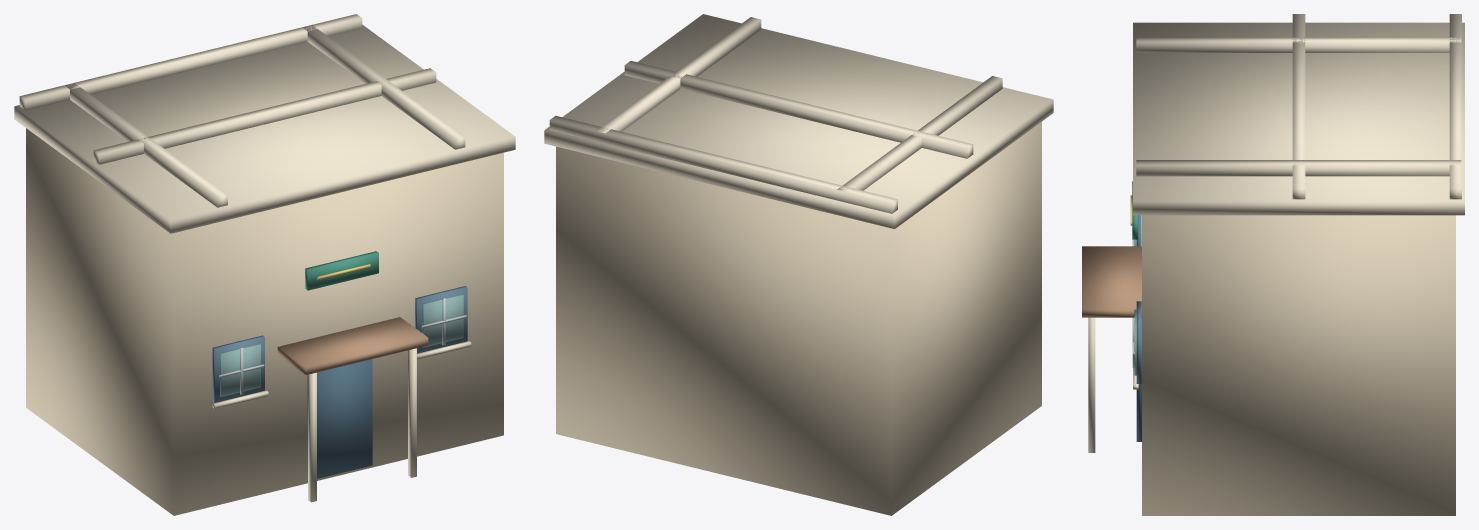
Rendered from building-type-d.glb.
3 views of the same model, side by side, from view 1: azimuth 30°, elevation 25°; view 2: azimuth 150°, elevation 25°; view 3: azimuth 270°, elevation 25° (orthographic). The views are drawn at different scales.
Parts seen in each view (by area): view 1: kano_house_mat_00_plastered_house, kano_house_mat_01_roof_slab, kano_house_mat_02_front_parapet, kano_house_mat_03_front_door, kano_house_mat_05_window_frame_-1.78, kano_house_mat_08_porch_canopy, kano_house_mat_06_window_glass_-1.78, kano_house_mat_09_compound_name_panel, kano_house_mat_07_window_mullion_-1.78; view 2: kano_house_mat_00_plastered_house, kano_house_mat_01_roof_slab, kano_house_mat_02_front_parapet; view 3: kano_house_mat_00_plastered_house, kano_house_mat_01_roof_slab, kano_house_mat_02_front_parapet, kano_house_mat_08_porch_canopy, kano_house_mat_05_window_frame_-1.78.
Boxes of the visible parts, box(x1,y1,x2,y2) form: kano_house_mat_00_plastered_house: box(26, 128, 503, 515); kano_house_mat_01_roof_slab: box(14, 24, 515, 502); kano_house_mat_02_front_parapet: box(19, 14, 465, 207); kano_house_mat_03_front_door: box(307, 359, 372, 478); kano_house_mat_05_window_frame_-1.78: box(212, 286, 467, 402); kano_house_mat_08_porch_canopy: box(277, 317, 428, 374); kano_house_mat_06_window_glass_-1.78: box(220, 294, 463, 396); kano_house_mat_09_compound_name_panel: box(305, 251, 378, 290); kano_house_mat_07_window_mullion_-1.78: box(219, 298, 466, 394); kano_house_mat_00_plastered_house: box(556, 121, 1041, 515); kano_house_mat_01_roof_slab: box(544, 14, 1053, 228); kano_house_mat_02_front_parapet: box(549, 17, 1002, 213); kano_house_mat_00_plastered_house: box(1142, 215, 1455, 515); kano_house_mat_01_roof_slab: box(1088, 22, 1464, 452); kano_house_mat_02_front_parapet: box(1136, 14, 1461, 199); kano_house_mat_08_porch_canopy: box(1082, 246, 1141, 317); kano_house_mat_05_window_frame_-1.78: box(1136, 215, 1141, 383).
Bounding box in the file's own units: 6.06 × 5.21 × 5.49.
